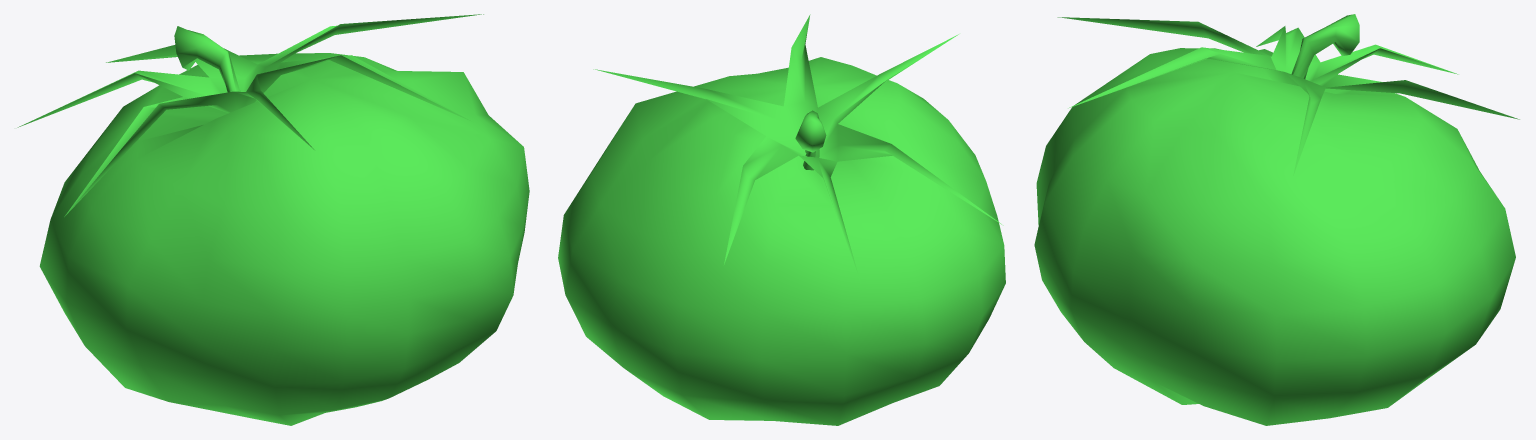
The model's file is MOD_Tomato.FBX.
3 renders of one model, left to right at view 1: azimuth 30°, elevation 25°; view 2: azimuth 150°, elevation 25°; view 3: azimuth 270°, elevation 25°, orthographic. The views are drawn at different scales.
Visible parts, largest first — view 1: MOD_Tomato; view 2: MOD_Tomato; view 3: MOD_Tomato.
Boxes of the visible parts, x1,y1,x2,y2 form: MOD_Tomato: [17, 14, 529, 425]; MOD_Tomato: [558, 14, 1005, 425]; MOD_Tomato: [1034, 14, 1519, 425].
Size of the model in its own units: 0.2934 by 0.2191 by 0.2783.
